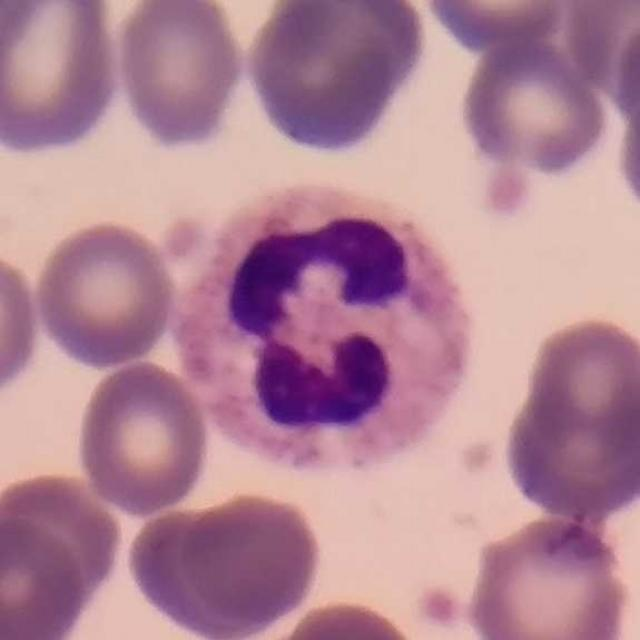Neutrophil: (160, 174, 496, 488)
RBC: (241, 0, 433, 160), (454, 34, 613, 182), (30, 216, 180, 372), (74, 357, 214, 518), (175, 488, 326, 636), (462, 512, 635, 640), (110, 0, 249, 151), (0, 0, 127, 160), (489, 399, 640, 525), (0, 466, 126, 614), (517, 314, 640, 452), (0, 514, 89, 640), (416, 0, 572, 55), (557, 0, 640, 101), (254, 595, 433, 640), (0, 240, 45, 407), (612, 61, 640, 242), (609, 9, 640, 158)
